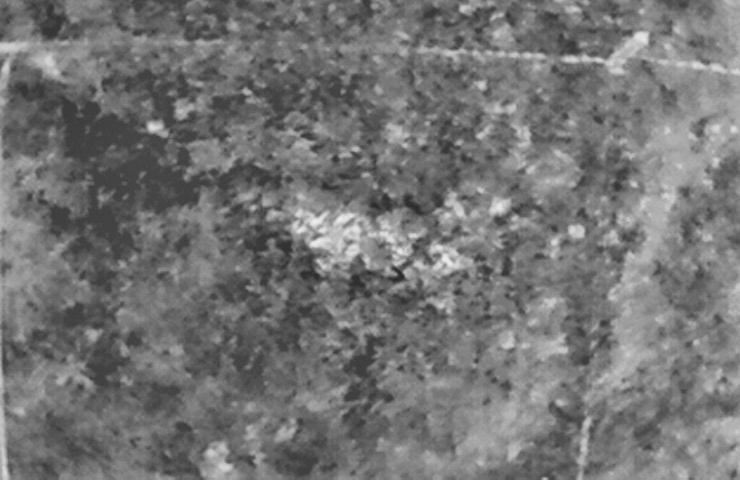landmines: (295, 208, 372, 268)
